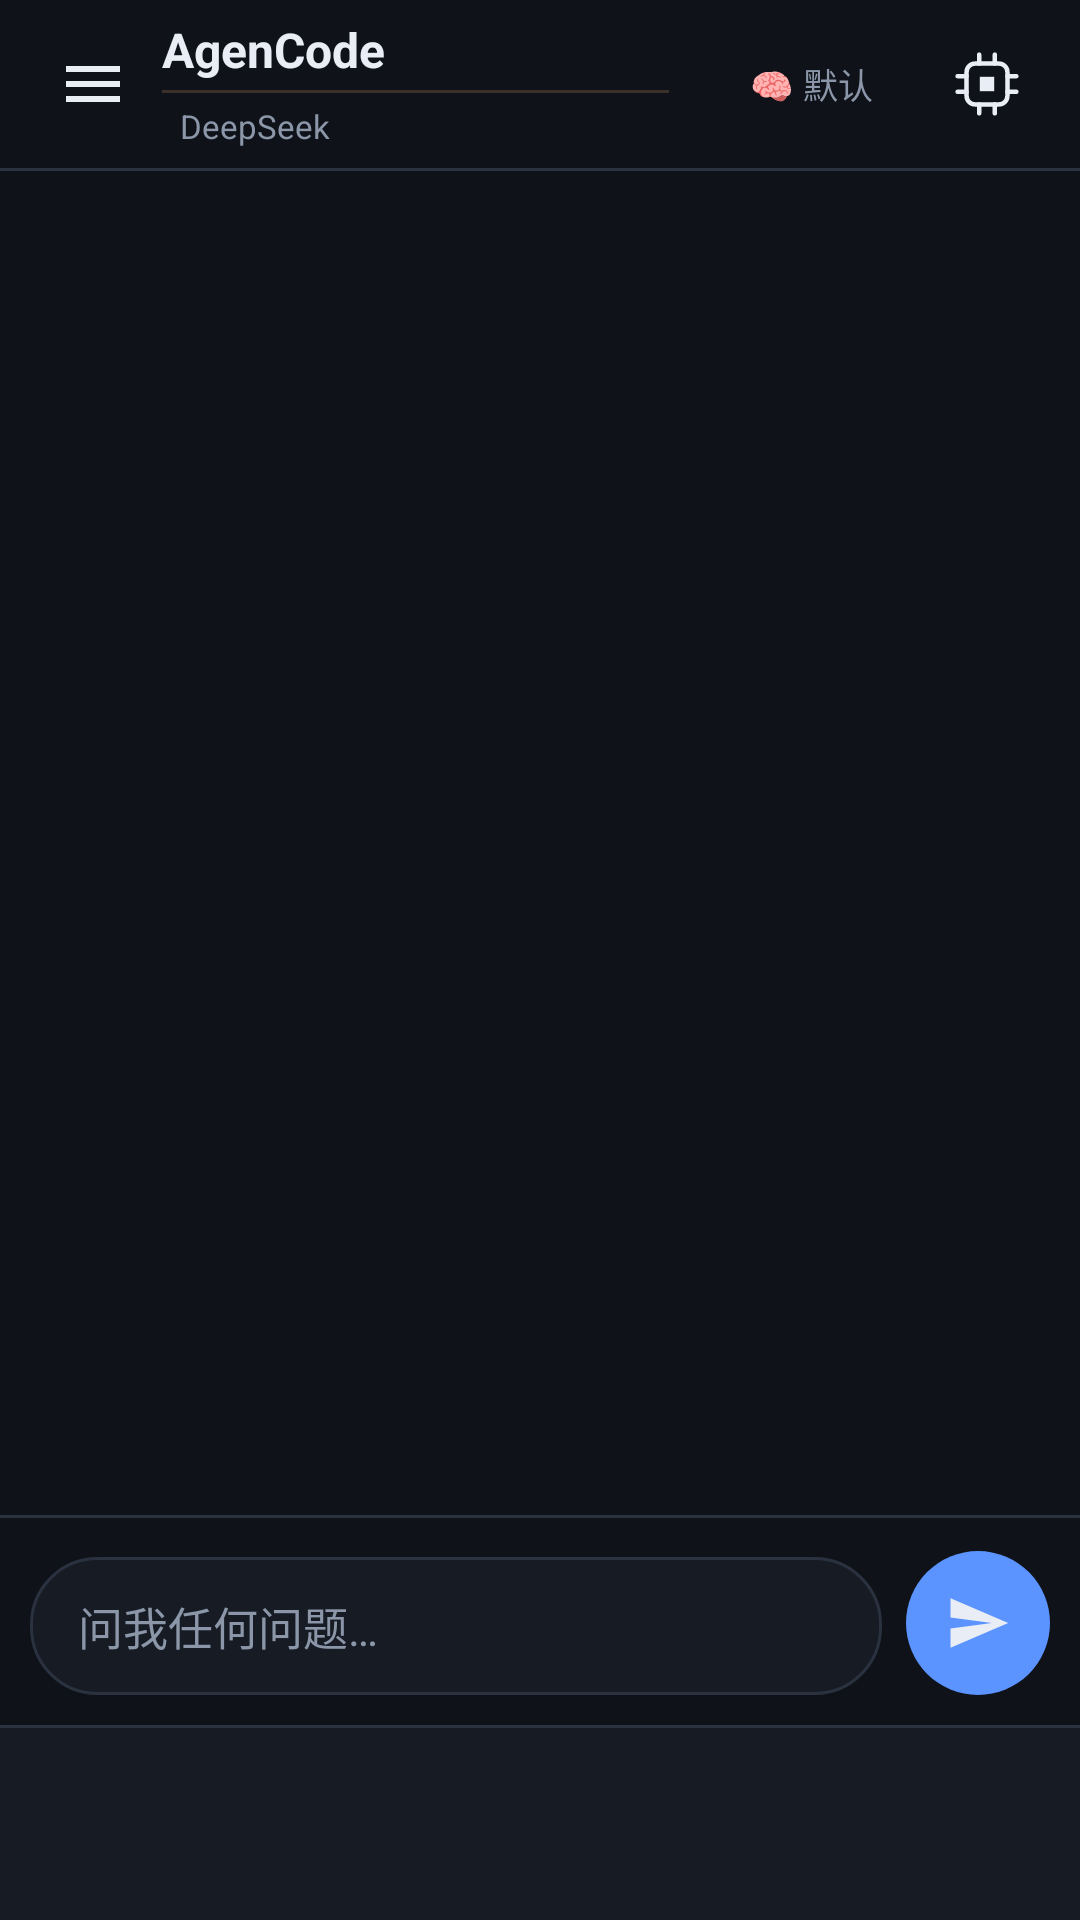

Icon click points for this 1080 × 1920 phone screenshot, format (x,y):
会话列表: (93,84)
发送: (978,1623)
选择模型（长按进设置）: (987,84)
